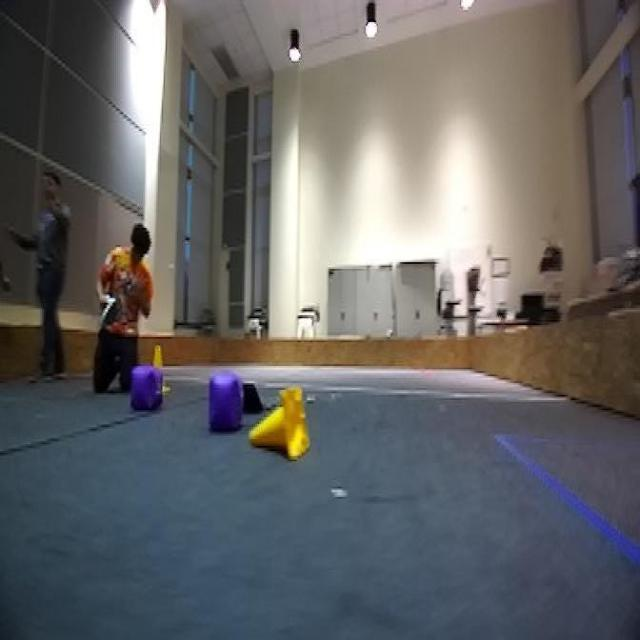frc_cone: (248, 383, 310, 460), (150, 337, 176, 400)
frc_cube: (208, 371, 241, 439), (128, 364, 164, 419)
